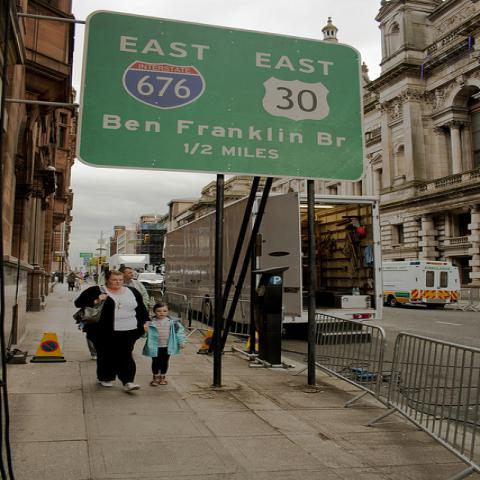car: (136, 273, 163, 286)
truck: (164, 192, 384, 340), (380, 261, 462, 309), (108, 255, 150, 280)
